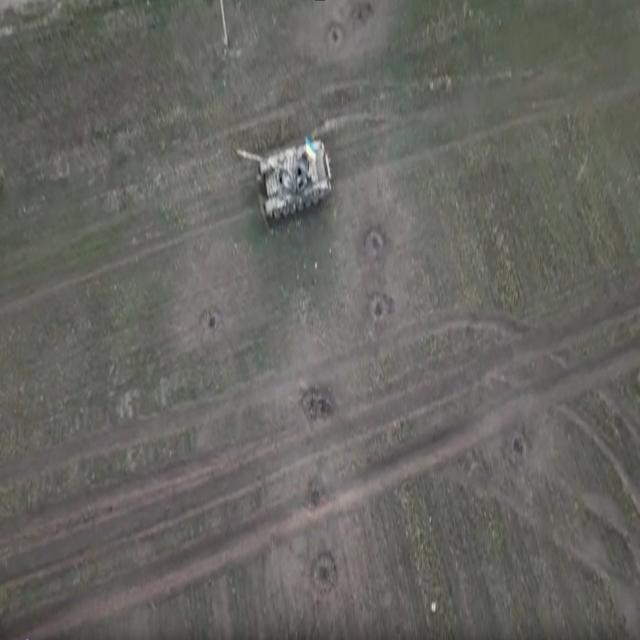MBT: (236, 135, 333, 229)
